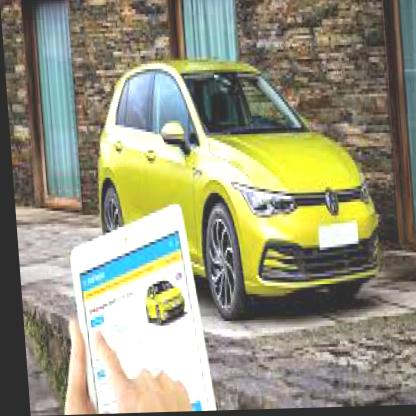Car: (88, 56, 379, 324)
